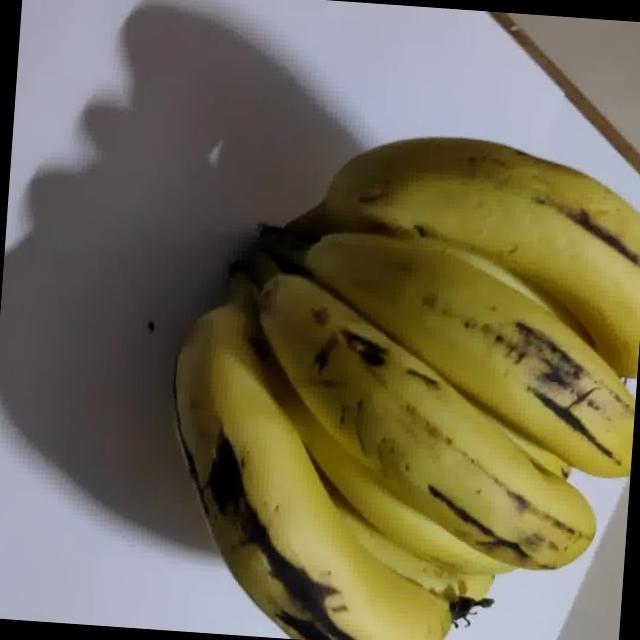banana_pacche: (71, 21, 640, 640)
